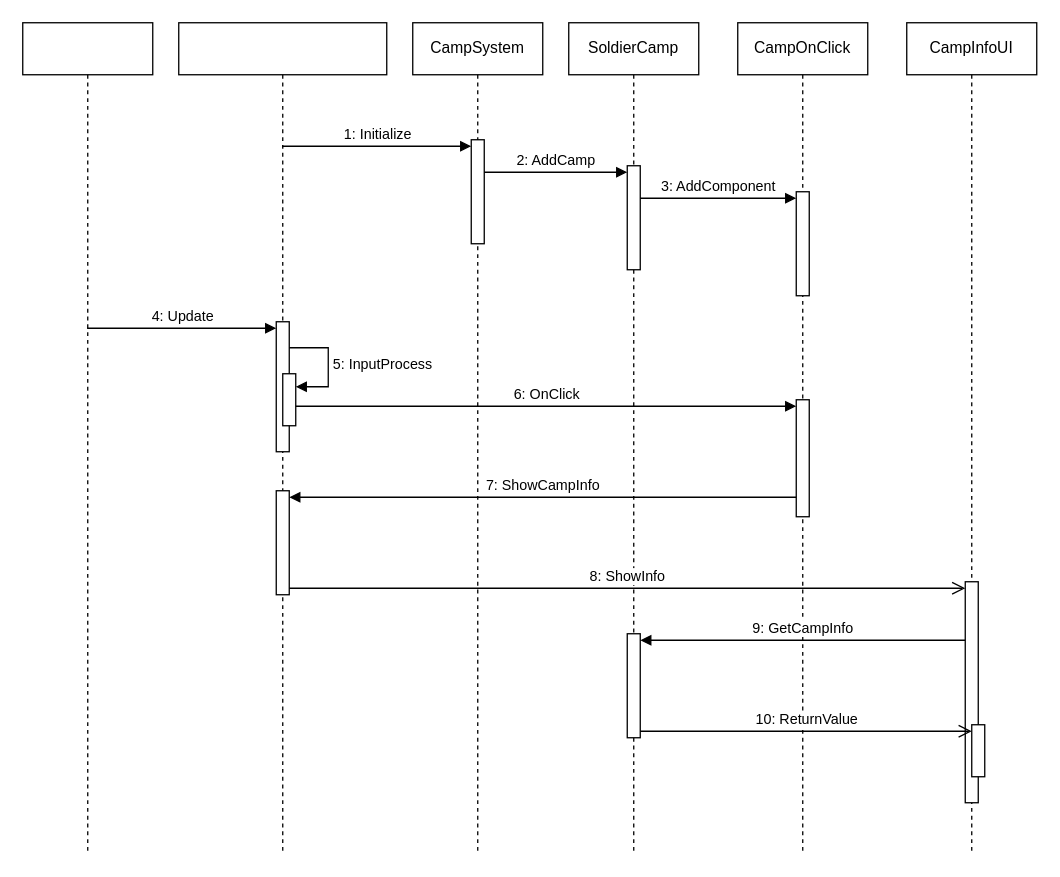
Some shapes in this 1060 by 877 pixel diagram are drawn without their labels. Here are the shapes that lost their labels. From the top down, the box of each, then its label:
(21, 21, 153, 855): GameLoop
(177, 21, 387, 855): PBaseDefenseGame
